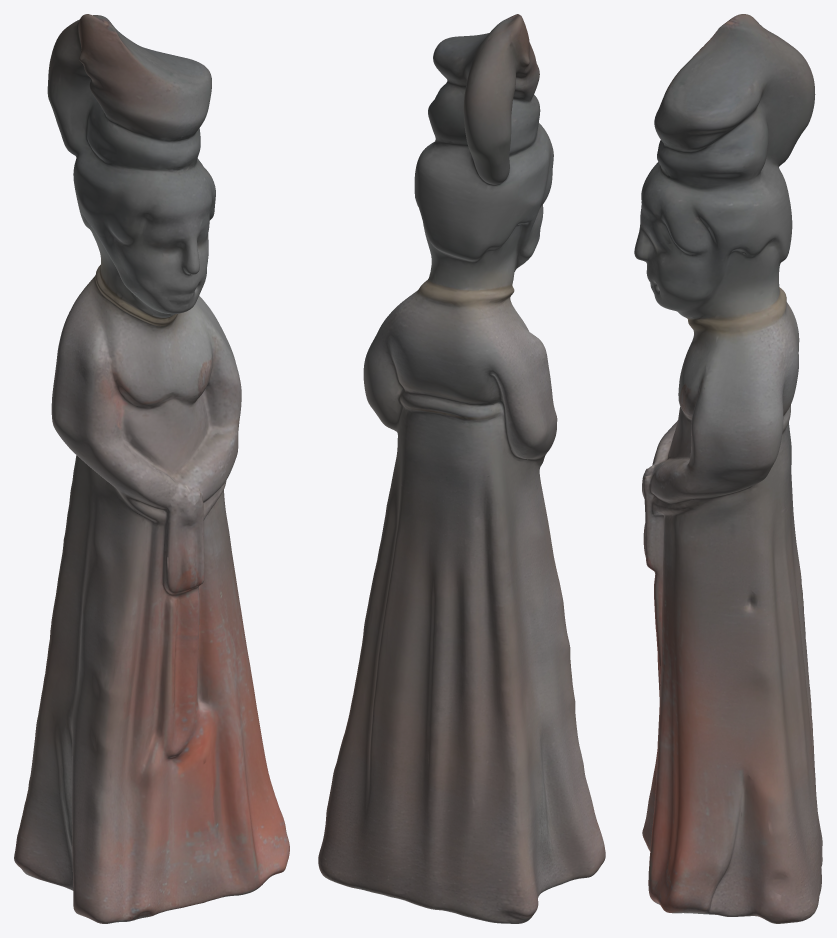
The picture shows the model from 3 angles, left to right: view 1: azimuth 30°, elevation 25°; view 2: azimuth 150°, elevation 25°; view 3: azimuth 270°, elevation 25°; orthographic projection. The views are drawn at different scales.
Parts seen in each view (by area): view 1: node_0; view 2: node_0; view 3: node_0.
Part boxes in pixels (box(x1,y1,x2,y2)): node_0: box(14, 14, 289, 923); node_0: box(318, 14, 605, 923); node_0: box(634, 14, 822, 923).
Size of the model in its own units: 0.3078 by 1.16 by 0.2367.
1 material, 1 textured.
